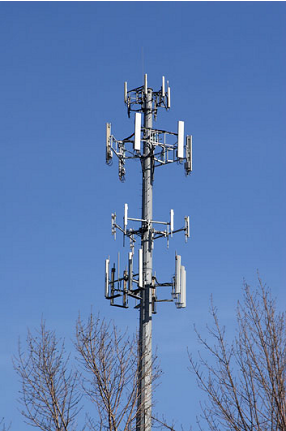a: (104, 123, 112, 158), (177, 121, 184, 157), (134, 112, 140, 150), (187, 136, 193, 172), (182, 267, 187, 305), (104, 260, 109, 296), (176, 256, 180, 294), (139, 251, 143, 287), (170, 210, 175, 236), (186, 215, 190, 237), (124, 83, 128, 103), (144, 75, 147, 94), (125, 204, 127, 226)
